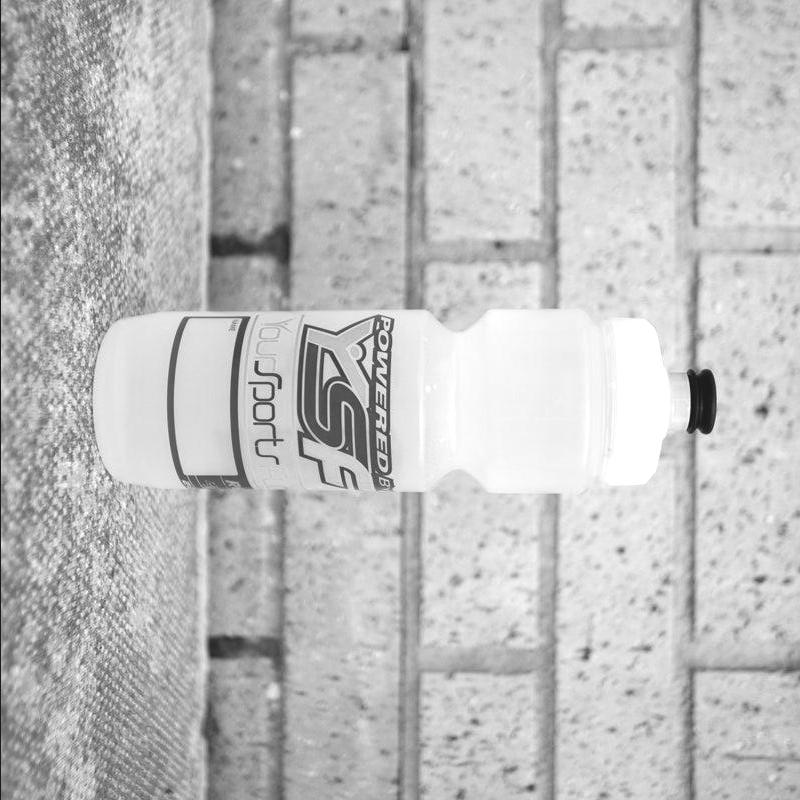bottle: (82, 298, 726, 508)
